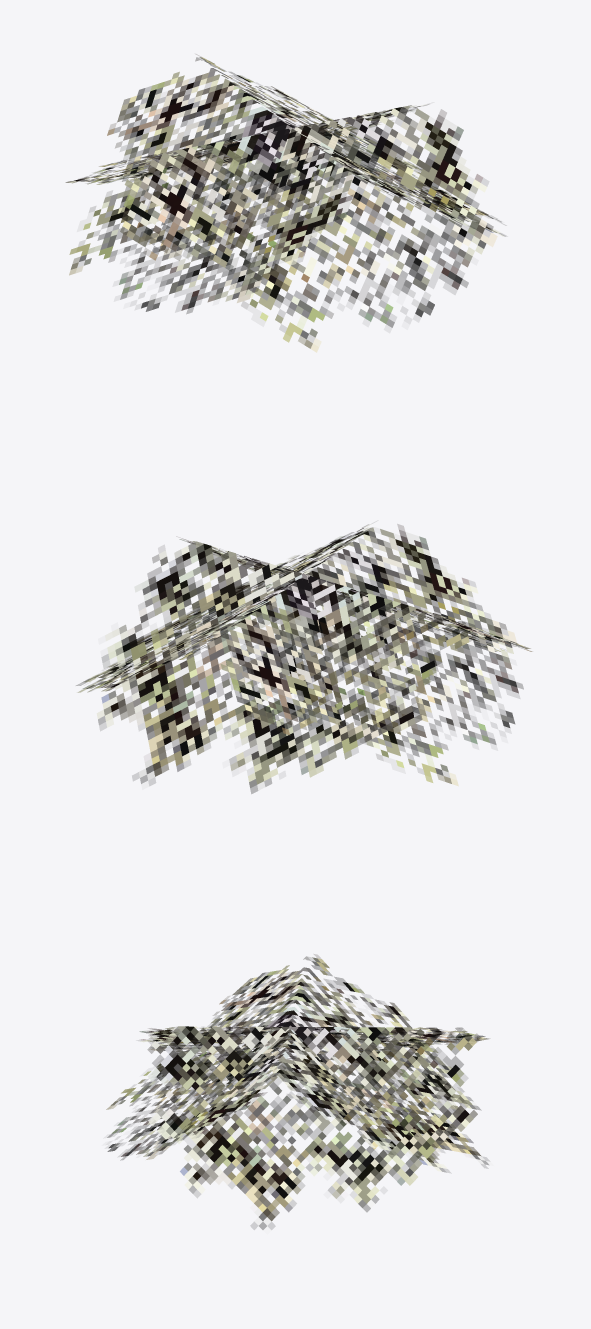
The model's file is Environment - Vegetation - Boulders - PTBush09.glb.
3 views of the same model, one above another, from view 1: azimuth 30°, elevation 25°; view 2: azimuth 150°, elevation 25°; view 3: azimuth 270°, elevation 25° (orthographic). The views are drawn at different scales.
Visible parts, largest first — view 1: PTBUSH09; view 2: PTBUSH09; view 3: PTBUSH09.
Boxes of the visible parts, bbox=[...] form: PTBUSH09: bbox=[65, 54, 505, 352]; PTBUSH09: bbox=[76, 524, 532, 793]; PTBUSH09: bbox=[106, 954, 493, 1234].
Size of the model in its own units: 16.73 by 5.48 by 16.84.
1 material, 1 textured.
